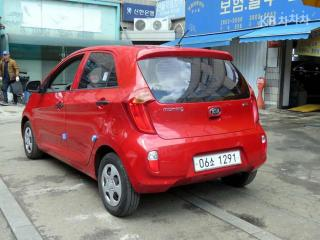0: (199, 158, 204, 168)
1: (217, 155, 223, 165), (232, 153, 237, 163)
2: (223, 154, 228, 164)
6: (204, 157, 210, 167)
9: (227, 153, 232, 163)
plate: (189, 147, 247, 171)
소: (209, 156, 215, 168)
